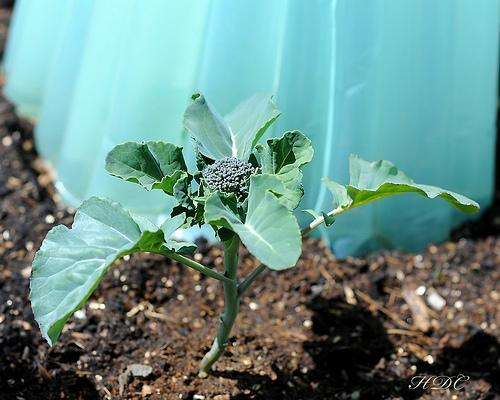broccoli: (202, 156, 255, 198)
